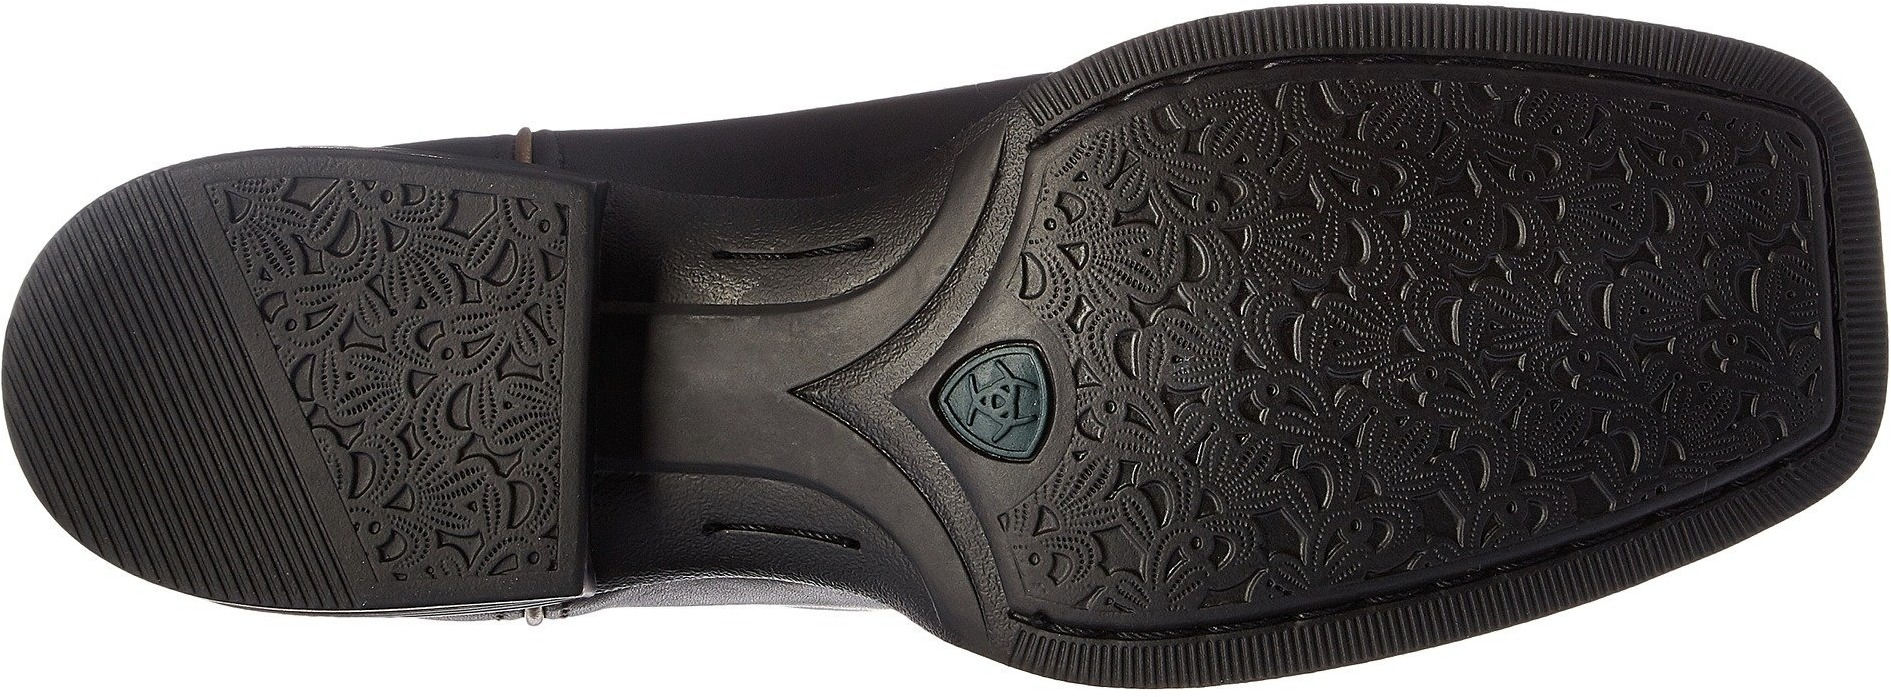other: (1255, 123, 1521, 371), (1561, 228, 1795, 451), (29, 295, 250, 519)
